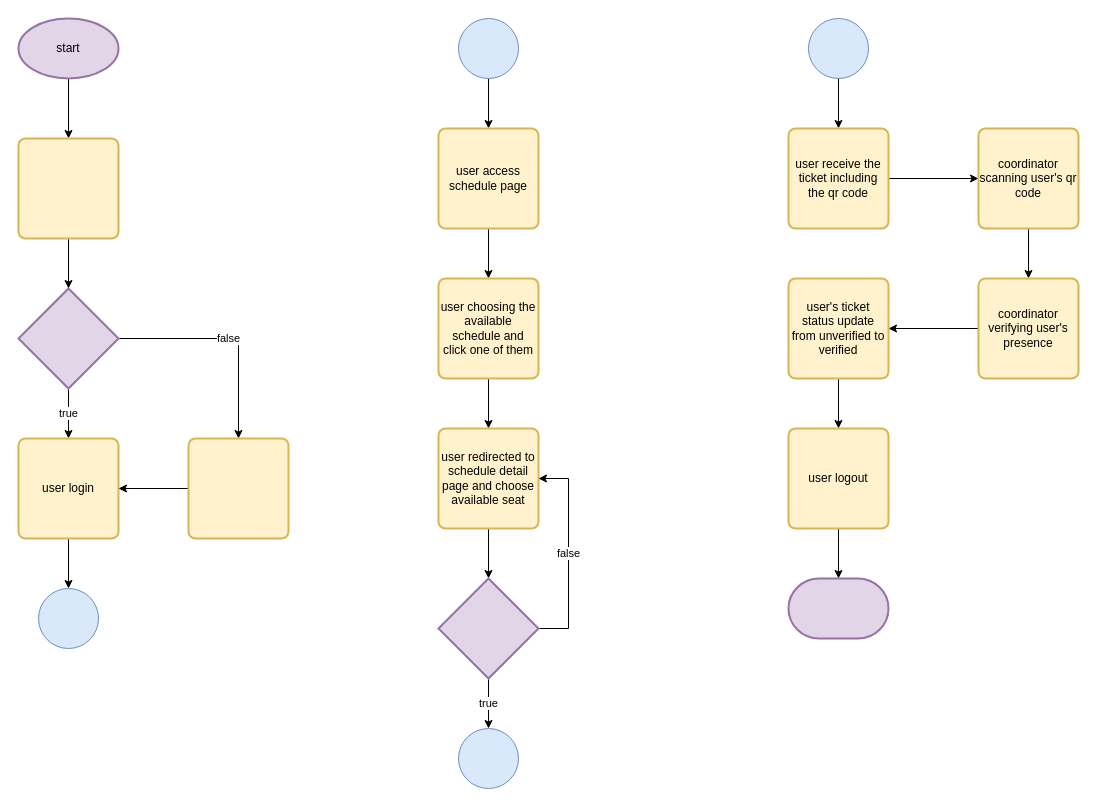
Some shapes in this 1096 by 806 pixel diagram are drawn without their labels. Here are the shapes that lost their labels. From the top down, the centre of each, then its label:
[68,188]: user access the website
[68,338]: user alrready have account
[238,488]: user register
[488,628]: seat available
[838,608]: end
